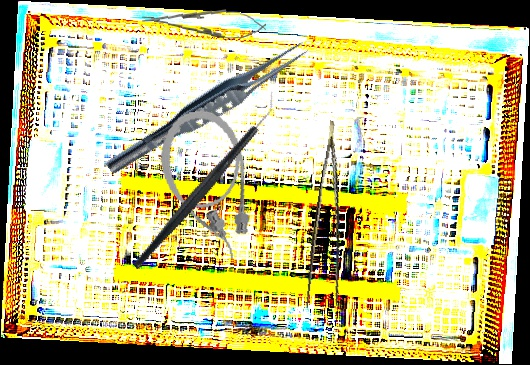Cannula: (152, 104, 262, 269)
Chopper: (92, 91, 317, 270)
Needle Holder: (141, 3, 267, 42)
Tissue Forceps: (102, 32, 313, 184), (300, 120, 365, 318)
